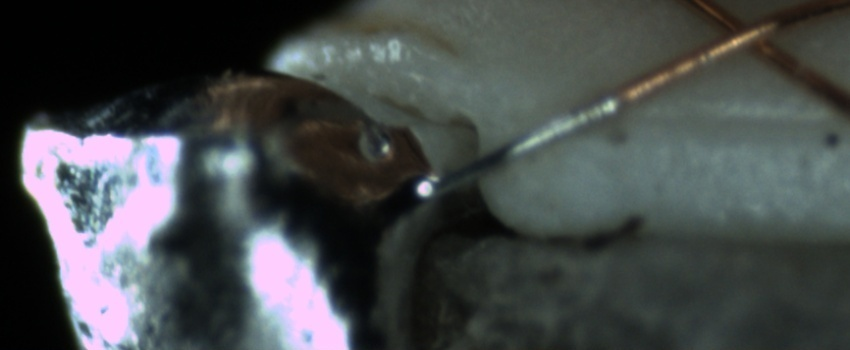CL: (696, 3, 793, 67)
DL: (611, 85, 849, 159)
TS: (413, 94, 621, 206)
